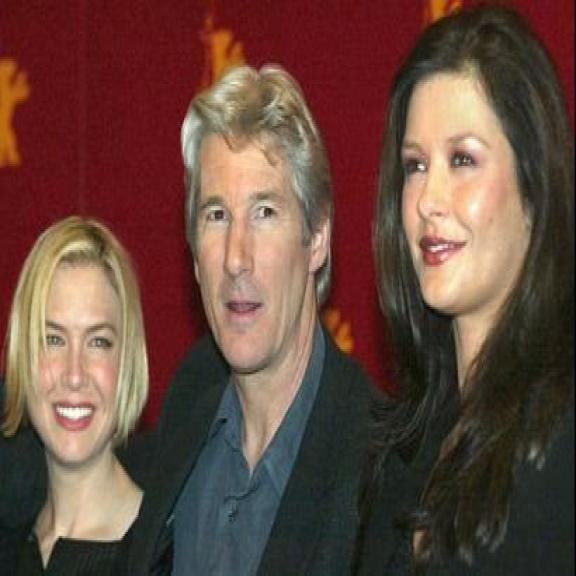face: (186, 130, 334, 377), (399, 62, 542, 312), (23, 252, 128, 469)
